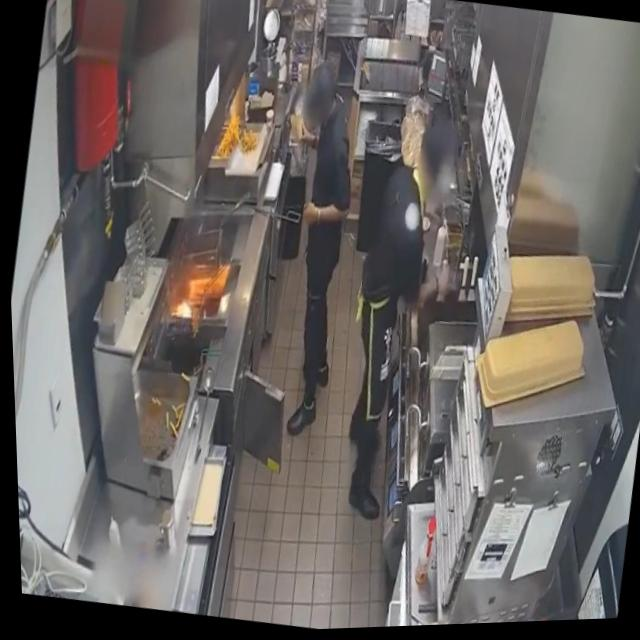fire: (168, 296, 193, 322)
